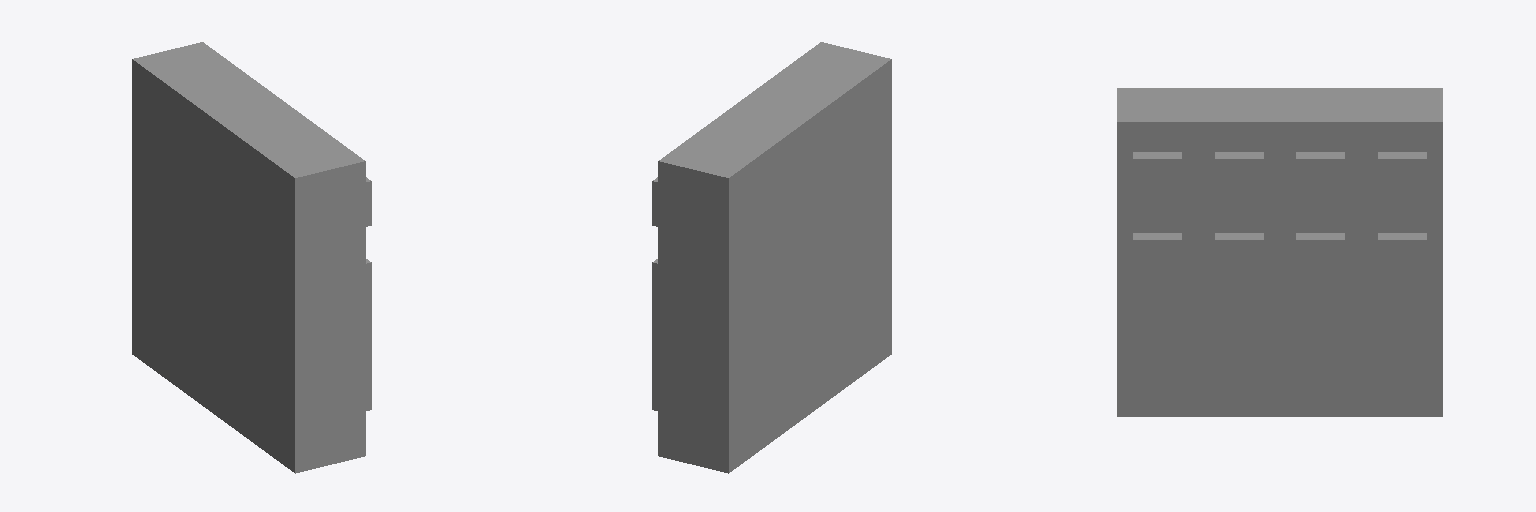
Rendered from window2.obj.
3 views of the same model, side by side, from view 1: azimuth 30°, elevation 25°; view 2: azimuth 150°, elevation 25°; view 3: azimuth 270°, elevation 25° (orthographic).
Visible parts, largest first — view 1: Cube, Cube.005; view 2: Cube, Cube.008_Cube.016; view 3: Cube, Cube.005, Cube.006_Cube.014, Cube.007_Cube.015, Cube.008_Cube.016, Cube.003, Cube.001_Cube.011, Cube.002_Cube.012, Cube.004_Cube.013.
Part boxes in pixels (x1,y1,x2,y2): Cube: (132,42,365,473); Cube.005: (366,259,371,410); Cube: (658,42,891,473); Cube.008_Cube.016: (652,259,657,410); Cube: (1117,88,1442,416); Cube.005: (1133,233,1181,386); Cube.006_Cube.014: (1215,233,1263,386); Cube.007_Cube.015: (1296,233,1344,386); Cube.008_Cube.016: (1378,233,1426,386); Cube.003: (1296,152,1344,202); Cube.001_Cube.011: (1133,152,1181,202); Cube.002_Cube.012: (1215,152,1263,202); Cube.004_Cube.013: (1378,152,1426,202).
Bounding box in the file's own units: 1.2 × 4 × 4.